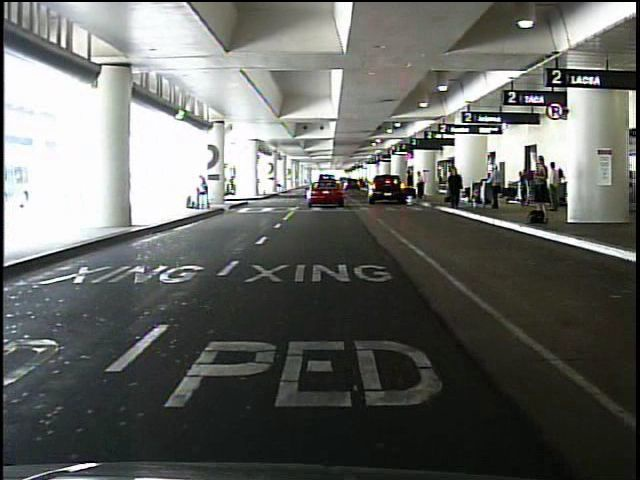person: (531, 154, 553, 212), (489, 163, 505, 213), (548, 162, 562, 213), (448, 167, 464, 209), (196, 173, 212, 212), (405, 171, 417, 207), (447, 166, 458, 204), (417, 169, 427, 199)
